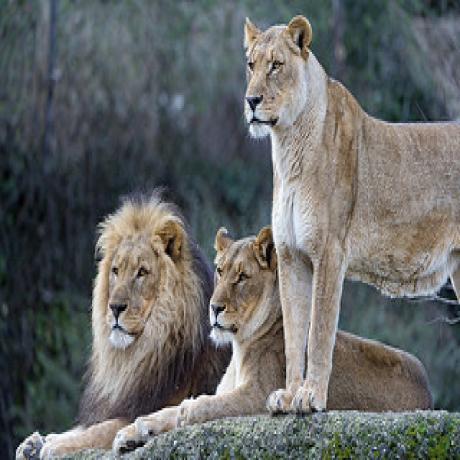Lion: (241, 13, 460, 416), (205, 219, 435, 412), (77, 193, 234, 428)
